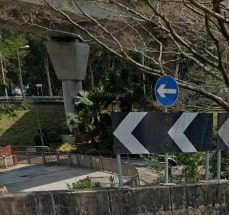Turn Left: (154, 77, 178, 106)
Turn Left(quick): (110, 107, 214, 153)
